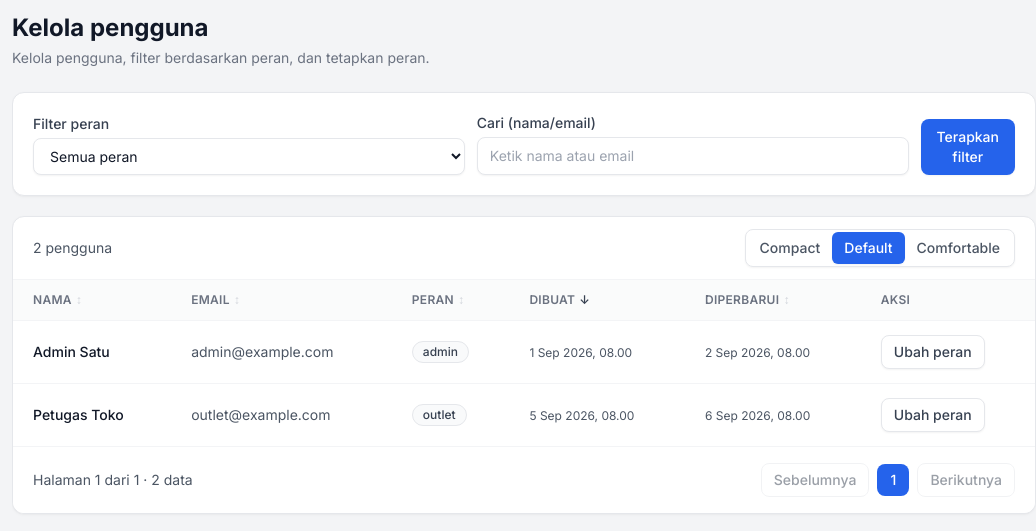
Scenario: admin users page › client-side search filter (real mode) › narrows the rendered rows when a search term is applied
Expected: the text "Admin Satu" is shown, [33,343,110,360]
Expected: the text "Petugas Toko" is shown, [33,406,124,423]
Type "admin" into the field with placeholder "Ketik nama atau email" at (693, 156), box [477,137,909,175]
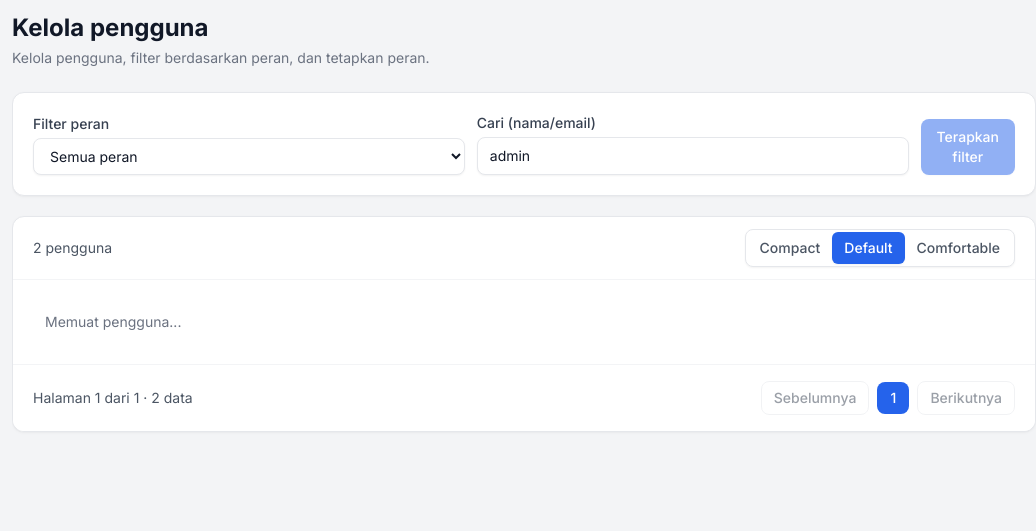
Click the button "Terapkan filter" at (968, 147), box [921,119,1015,175]
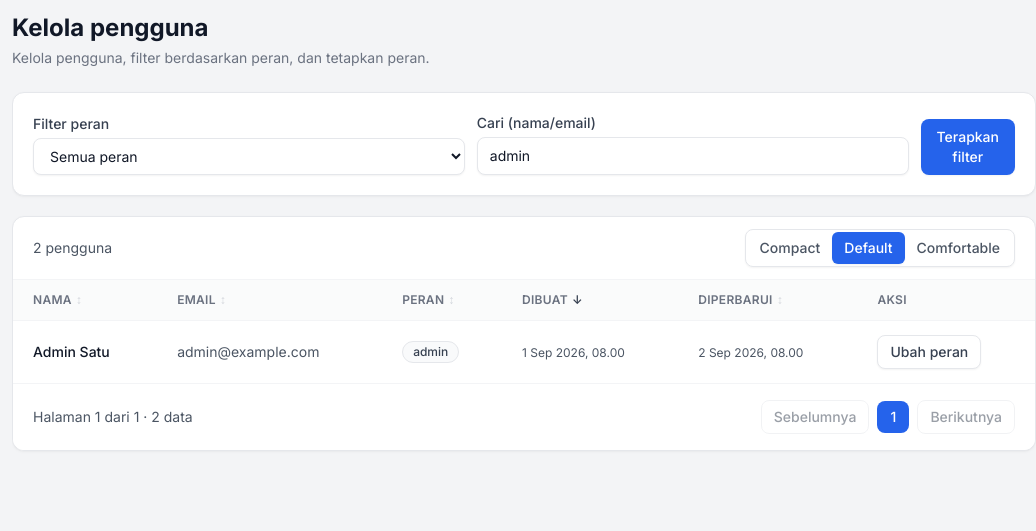
Expected: the text "Petugas Toko" is not shown
Result: the text "Admin Satu" is shown at [33,343,110,360]
